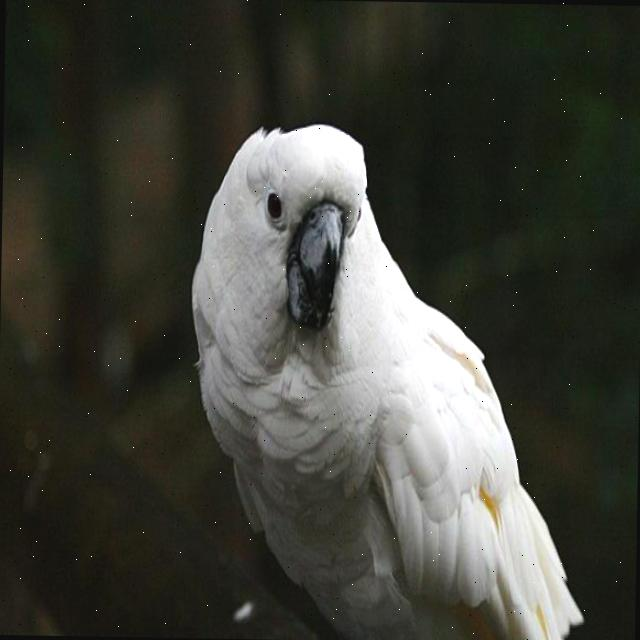Kakatua Putih: (156, 85, 603, 640)
